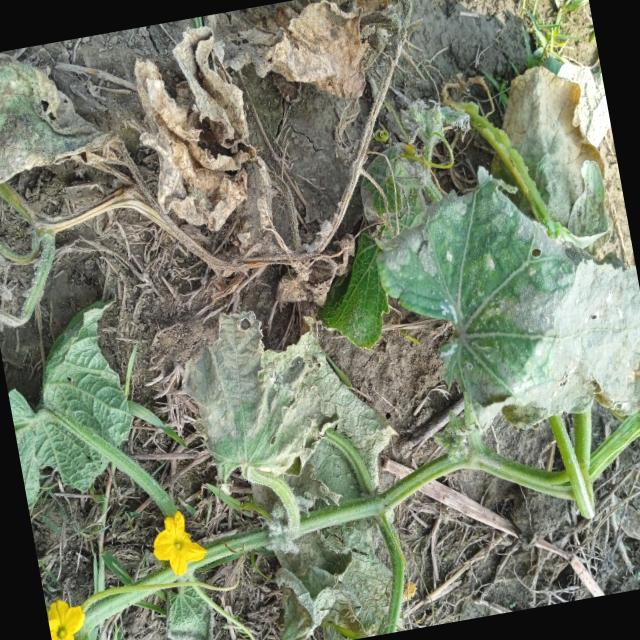cucumber_bacterial: (358, 143, 640, 471), (106, 2, 316, 252), (162, 291, 348, 494), (0, 35, 124, 240)
